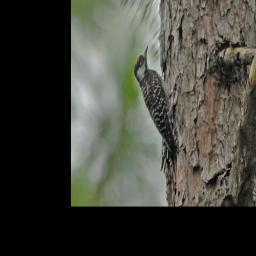Woodpecker: (134, 40, 180, 166)
